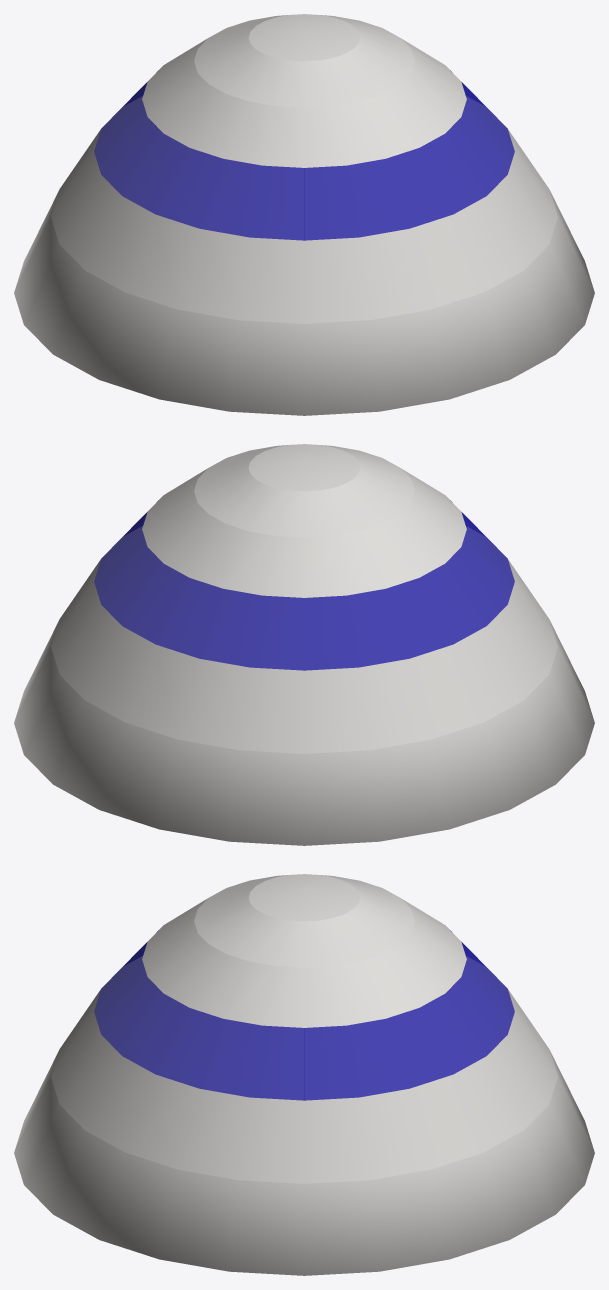
Rendered from Creepy Ship.dae.
3 renders of one model, top to bottom at view 1: azimuth 30°, elevation 25°; view 2: azimuth 150°, elevation 25°; view 3: azimuth 270°, elevation 25°, orthographic.
Visible parts, largest first — view 1: Component_1 (×3); view 2: Component_1 (×3); view 3: Component_1 (×3).
Part boxes in pixels (x1=…): Component_1 (×3): x1=14, y1=14, x2=594, y2=415; Component_1 (×3): x1=14, y1=444, x2=594, y2=845; Component_1 (×3): x1=14, y1=874, x2=594, y2=1275.
Bounding box in the file's own units: 39.37 × 39.37 × 19.69.
